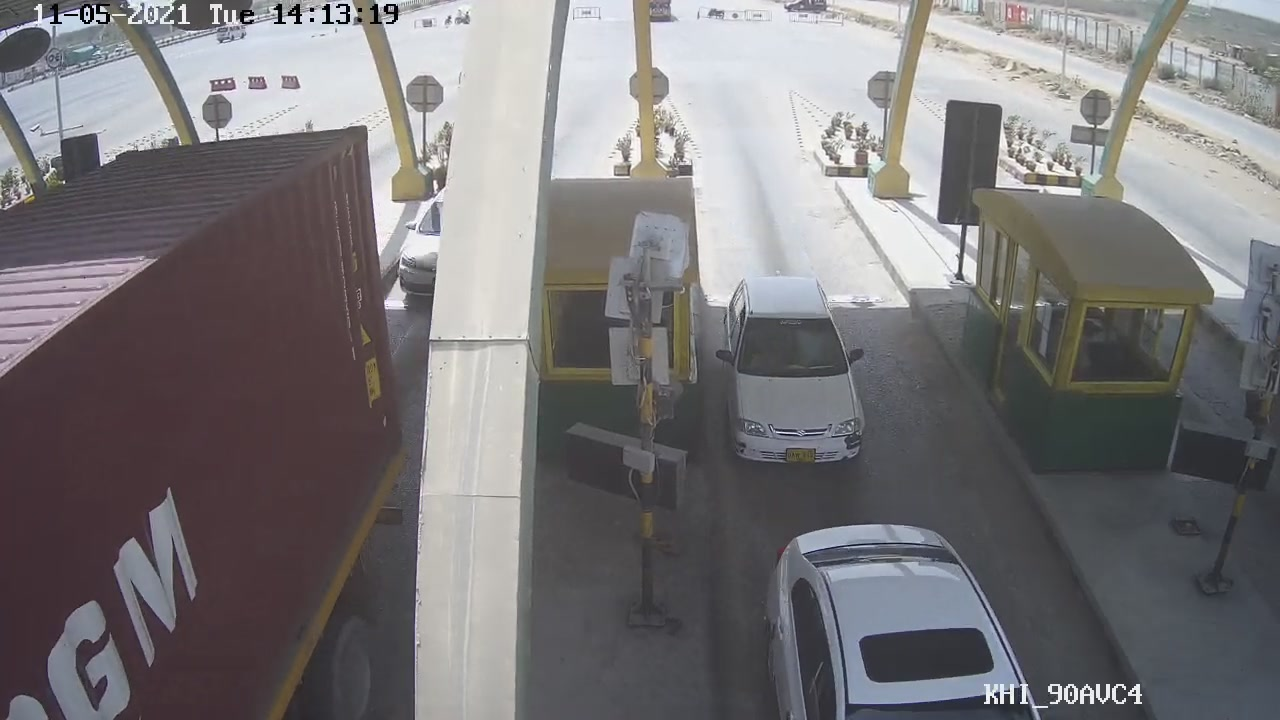F1: (718, 270, 882, 470)
